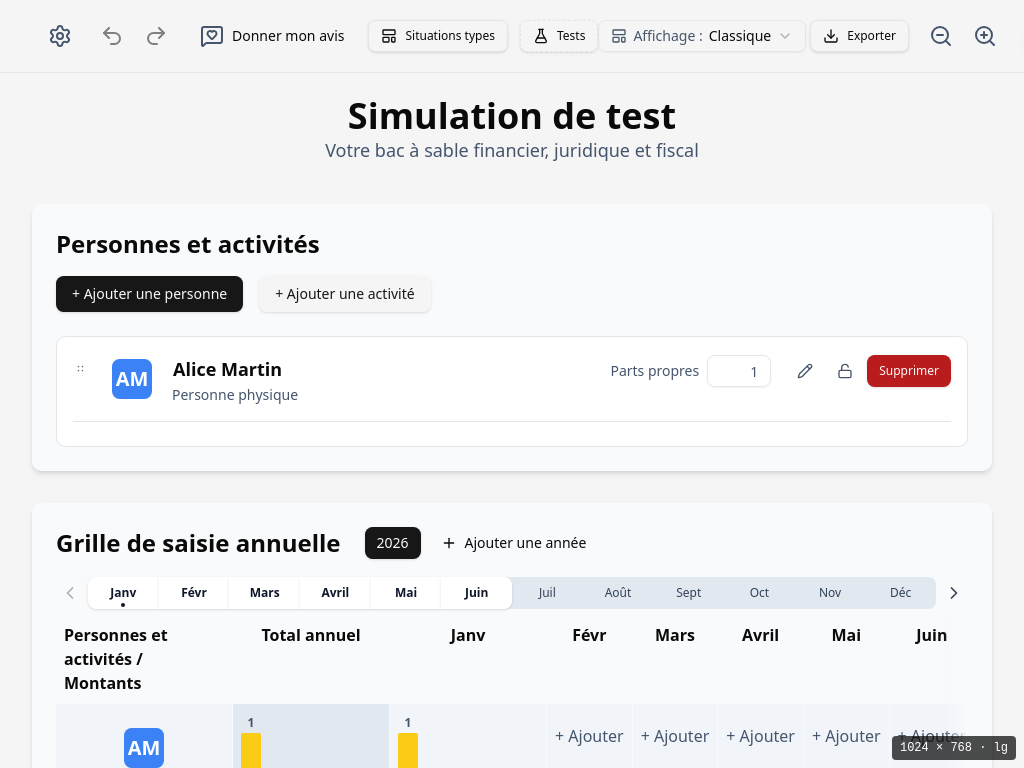
Scenario: App : plusieurs années › ajoute l'année suivante en recopiant les flux, l'affiche, puis revient à la précédente
This screenshot has width=1024, height=768.
Check: the heading "Simulation de test" is shown, box [348,91,676,140]
What coordinates should you click on to do the following:
click the button "Ajouter une année"
I would click on:
 (513, 543)
Its box is [428,527,598,559].
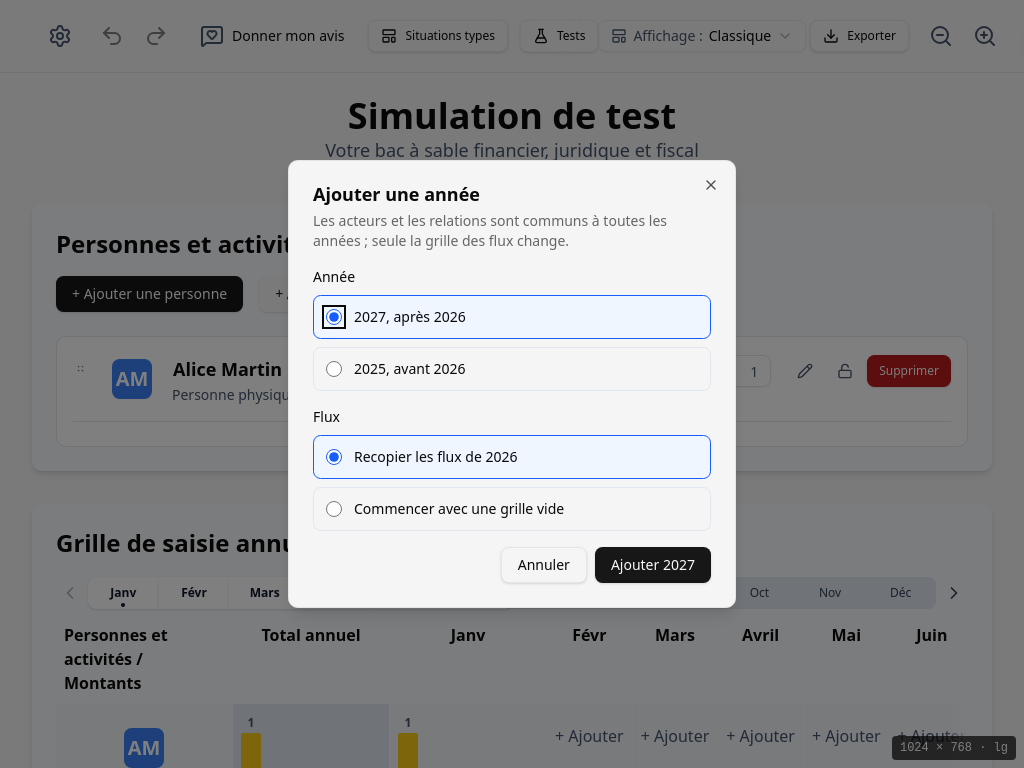
What coordinates should you click on to do the following:
click the button "Ajouter 2027"
I would click on:
 (653, 565)
Its box is [595,547,711,583].
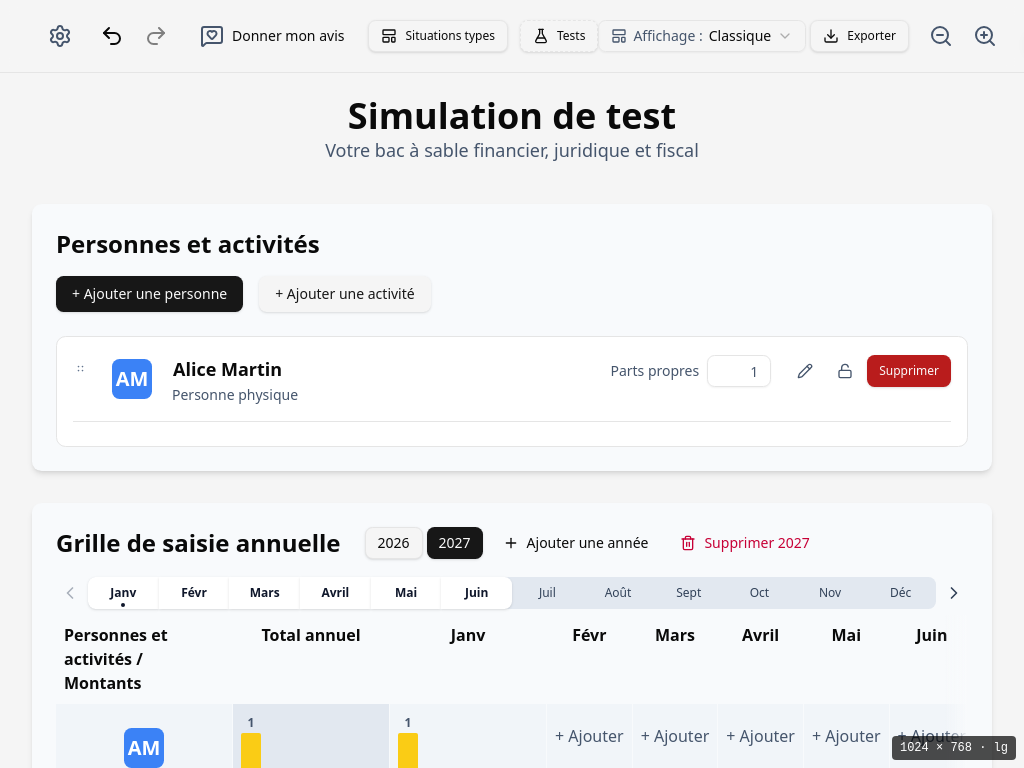
Check: the button "2027" is pressed, box [426,527,482,559]
What coordinates should you click on to do the following:
click the button "2026"
I would click on:
 (394, 543)
Its box is [364,527,422,559].
(page scrolled)
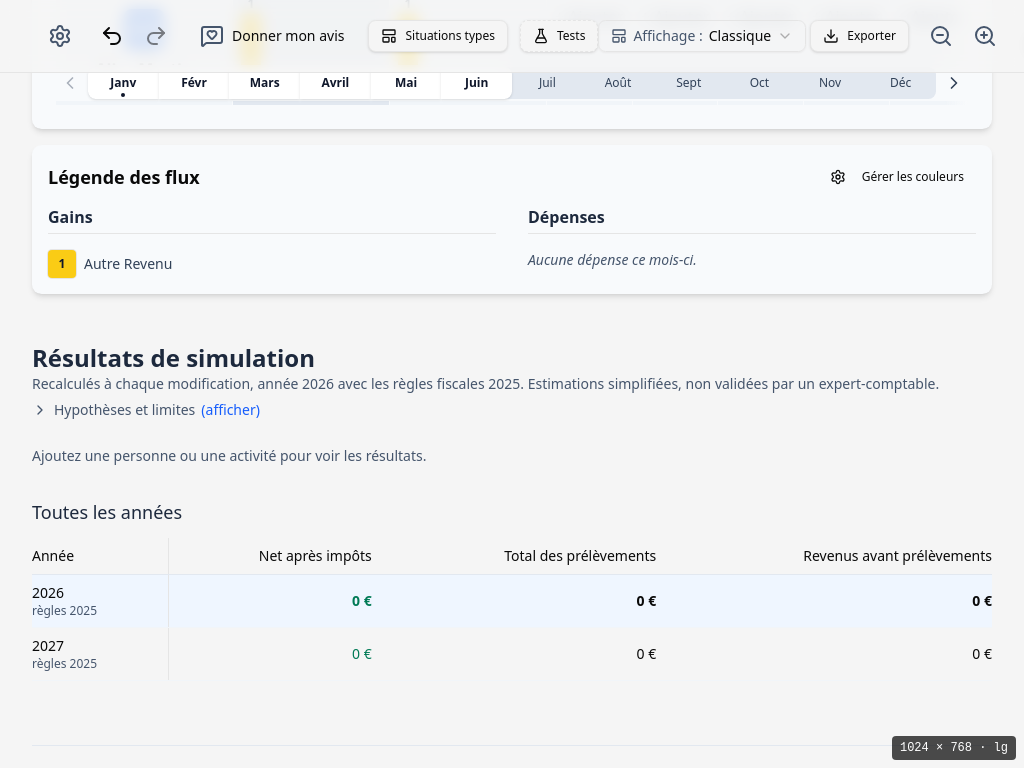
Check: the text "année 2026 avec les règles fiscales" is shown, box [250,374,520,393]
